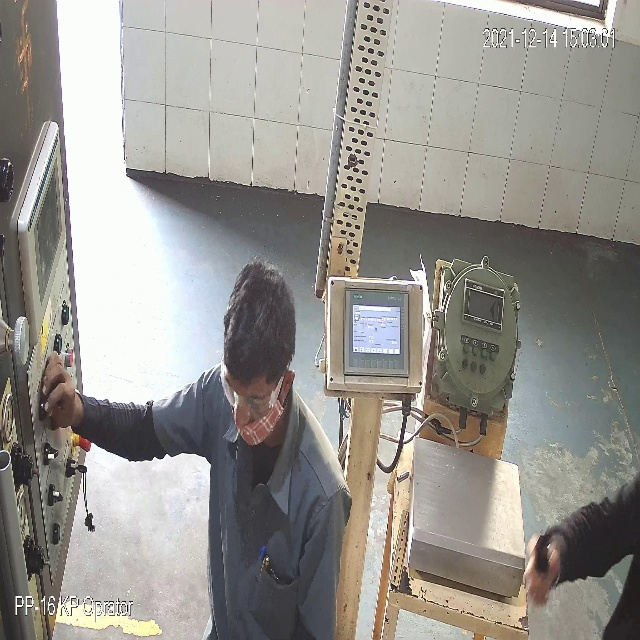Gafas: (218, 368, 283, 414)
